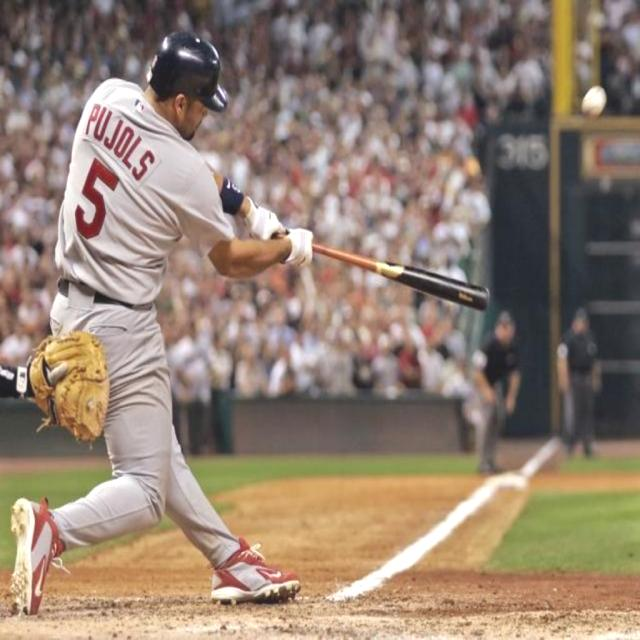ball: (581, 85, 609, 117)
bat: (310, 236, 492, 314)
